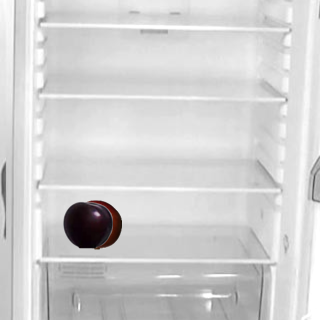Apple Braeburn: (71, 199, 121, 249)
Cherry Wax Black: (62, 199, 112, 249)
